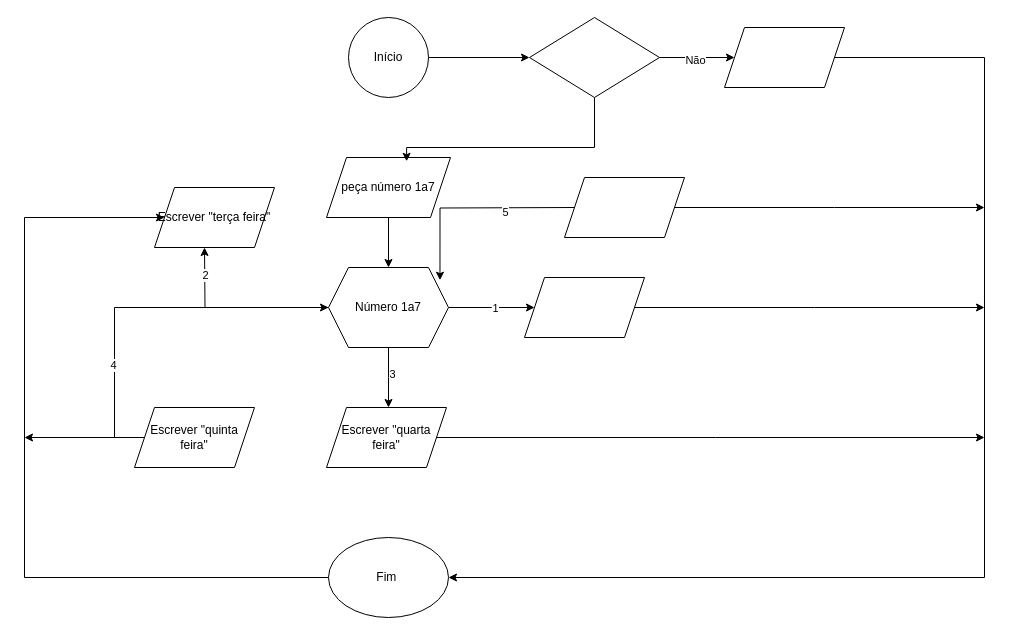
Some shapes in this 1010 by 635 pixel diagram are drawn without their labels. Each missing label, with the centre of its shape:
Escrever "N" "invalido": the point at 784,57
Escrever "segunda feira": the point at 584,307
Escrever "sexta feira": the point at 624,207
N=E N<=7: the point at 594,57
